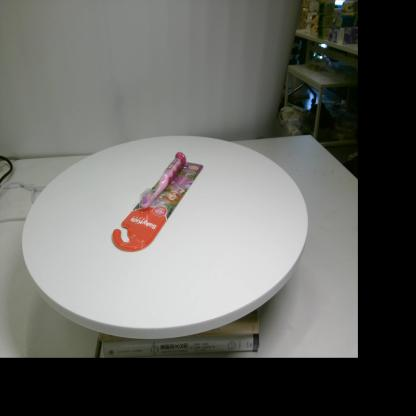Personal Hygiene: (112, 152, 204, 252)
